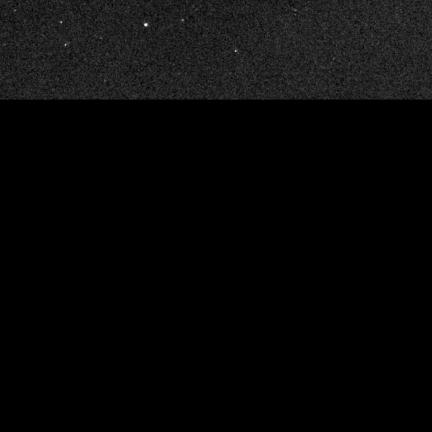blob: (144, 23, 148, 26)
